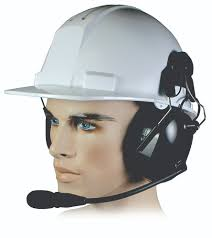Person_wearing_helmet: (7, 5, 199, 147)
